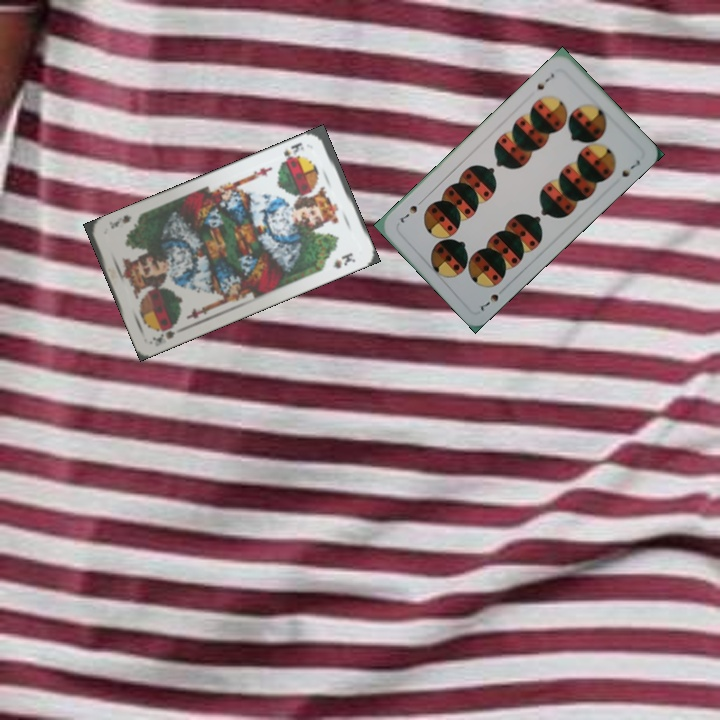S7: (476, 283, 509, 313), (533, 69, 557, 92)
SK: (148, 319, 181, 345), (278, 138, 307, 165)
